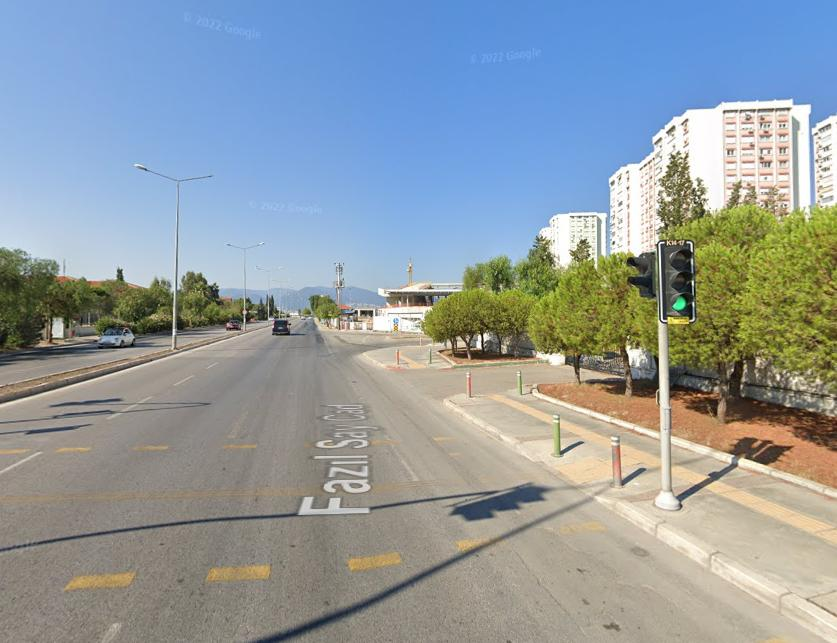greenlight: (658, 240, 699, 320)
